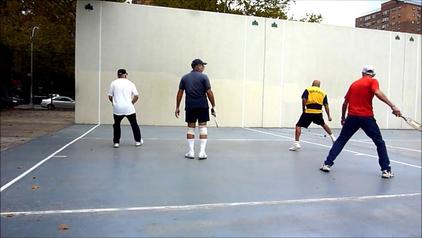walk: (327, 63, 394, 169), (175, 52, 214, 163), (289, 72, 334, 161), (107, 66, 142, 149)
